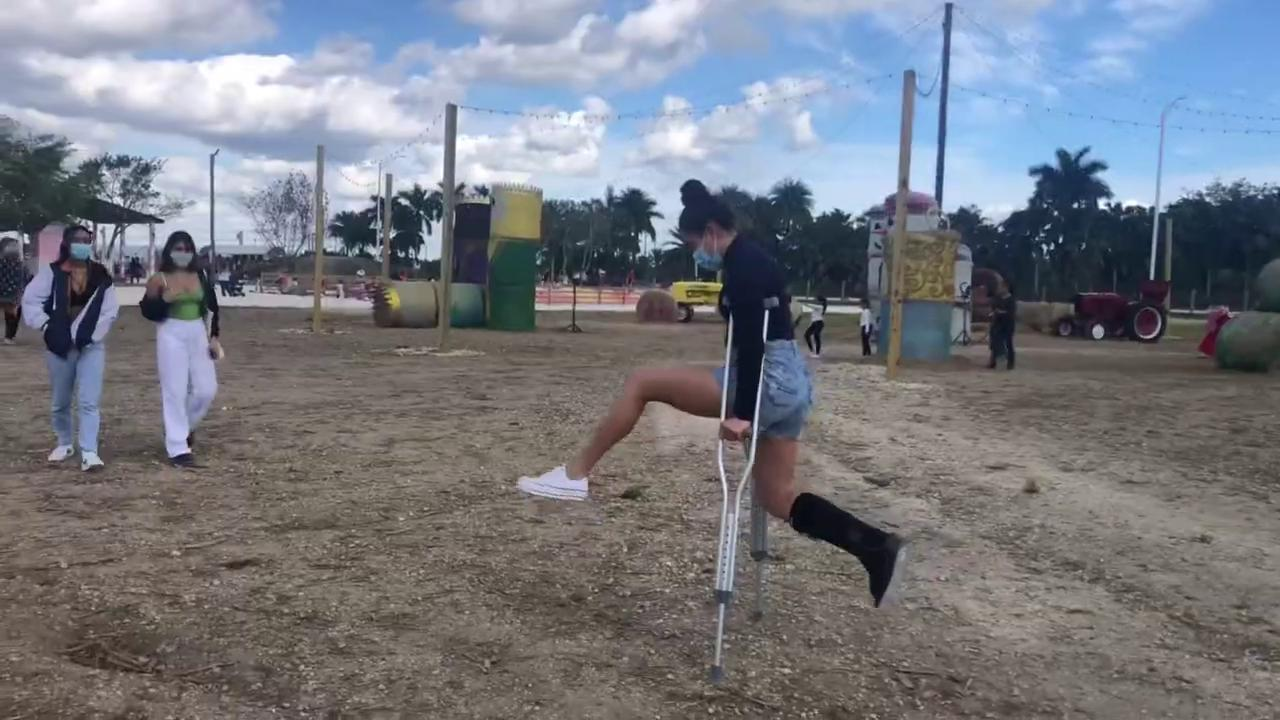crutches: (519, 179, 900, 670)
